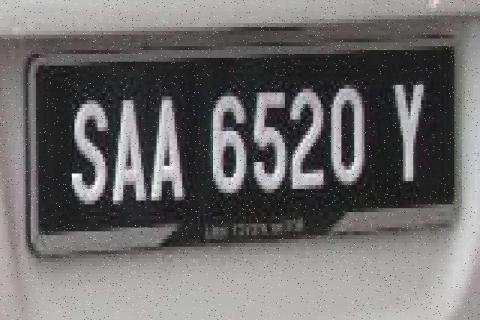LicensePlate: (28, 54, 458, 228)
